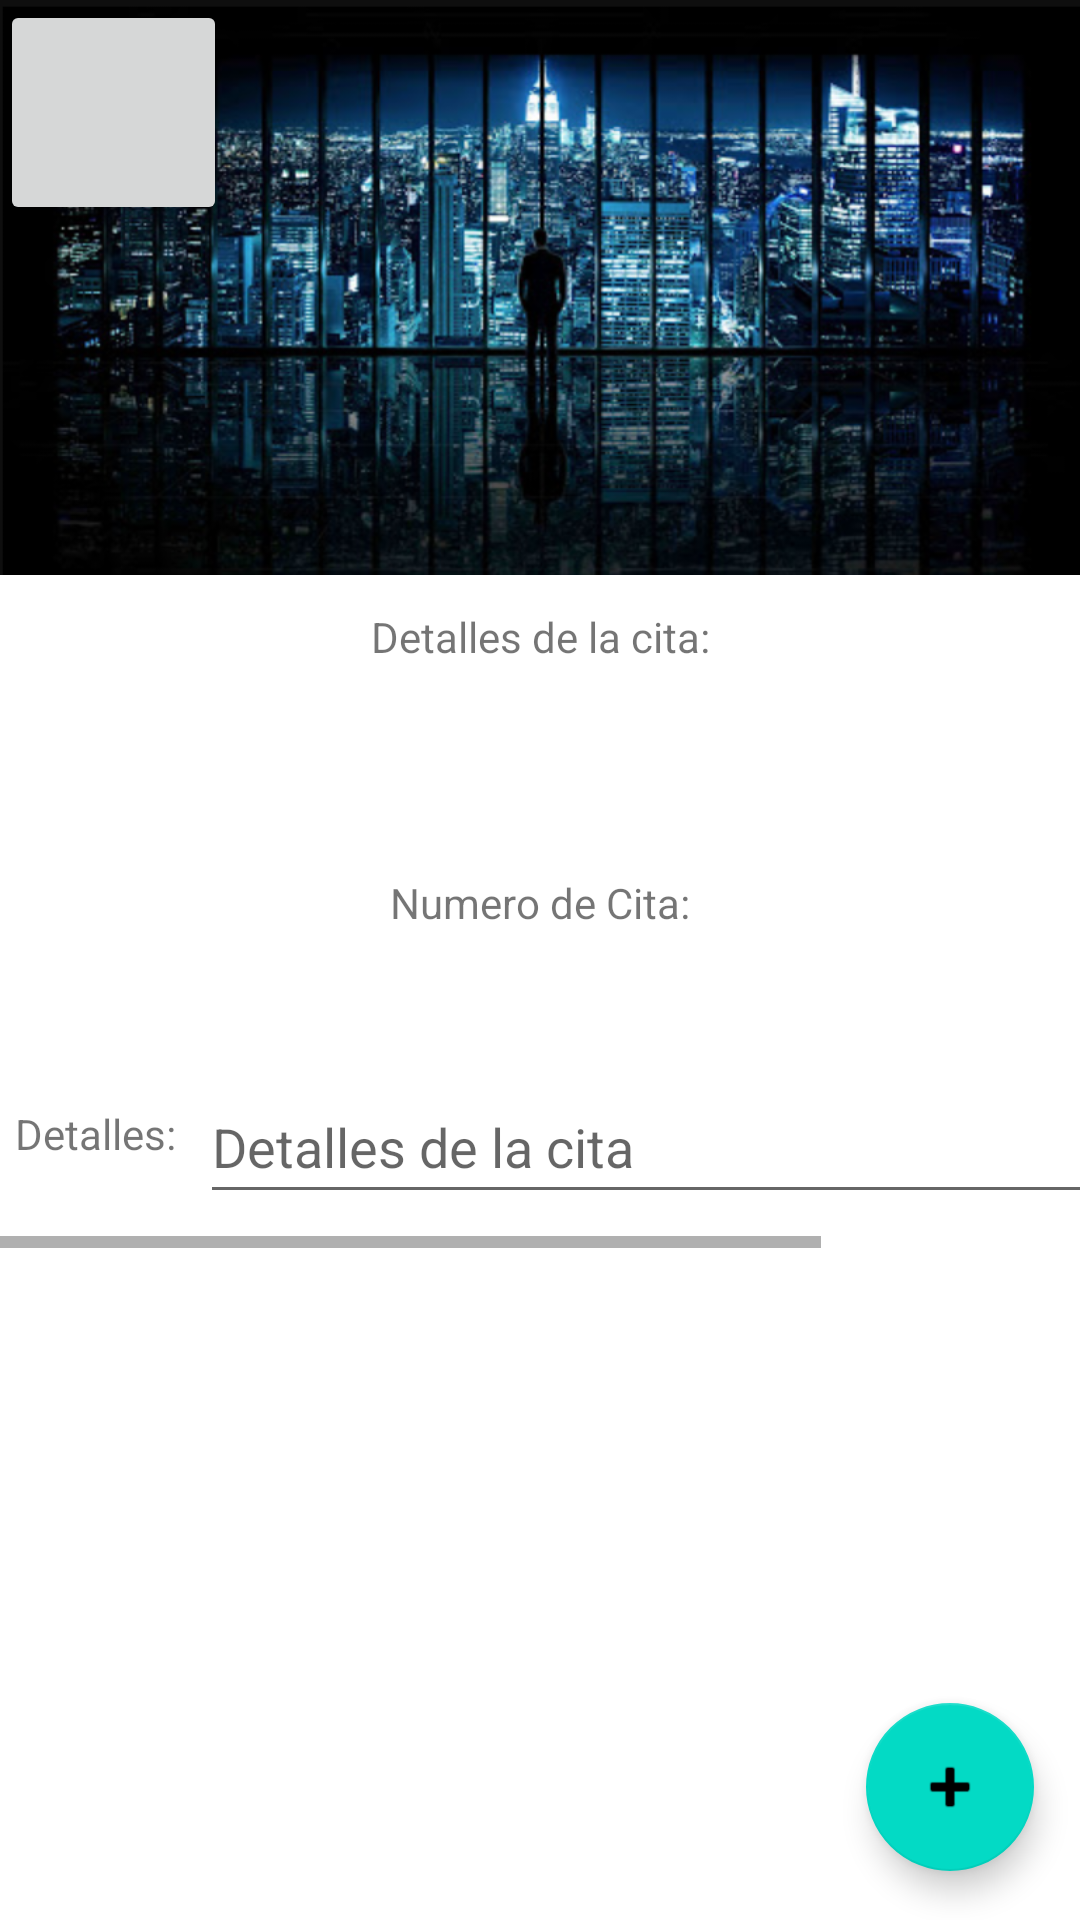

Where to tap for icons on this 1080×1920 app screen, as [x,y]:
add: [950,1787]
